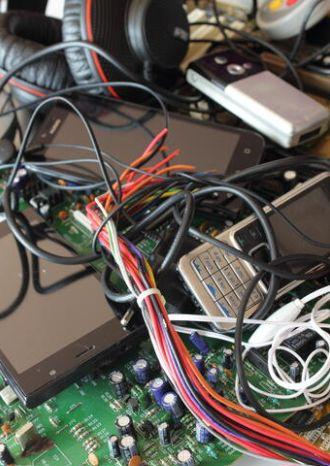electronic: (2, 326, 260, 466), (174, 169, 329, 331), (23, 99, 259, 198), (0, 1, 183, 110), (2, 378, 92, 464), (1, 80, 55, 187), (204, 1, 328, 40), (51, 205, 110, 268), (259, 50, 325, 101), (205, 0, 253, 24), (133, 226, 166, 257), (0, 114, 20, 161), (14, 422, 35, 450), (189, 332, 209, 355), (132, 358, 151, 382), (0, 384, 19, 405), (1, 443, 15, 466), (120, 306, 135, 327), (205, 367, 219, 387), (190, 354, 204, 373)
